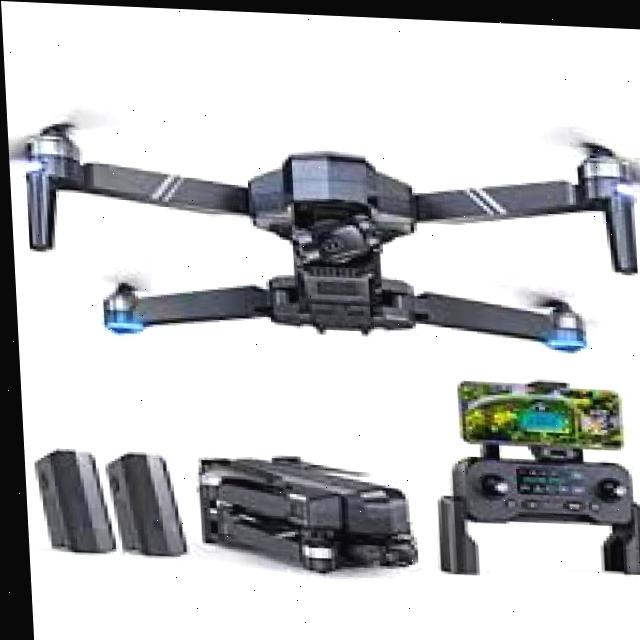drone: (3, 86, 640, 359)
